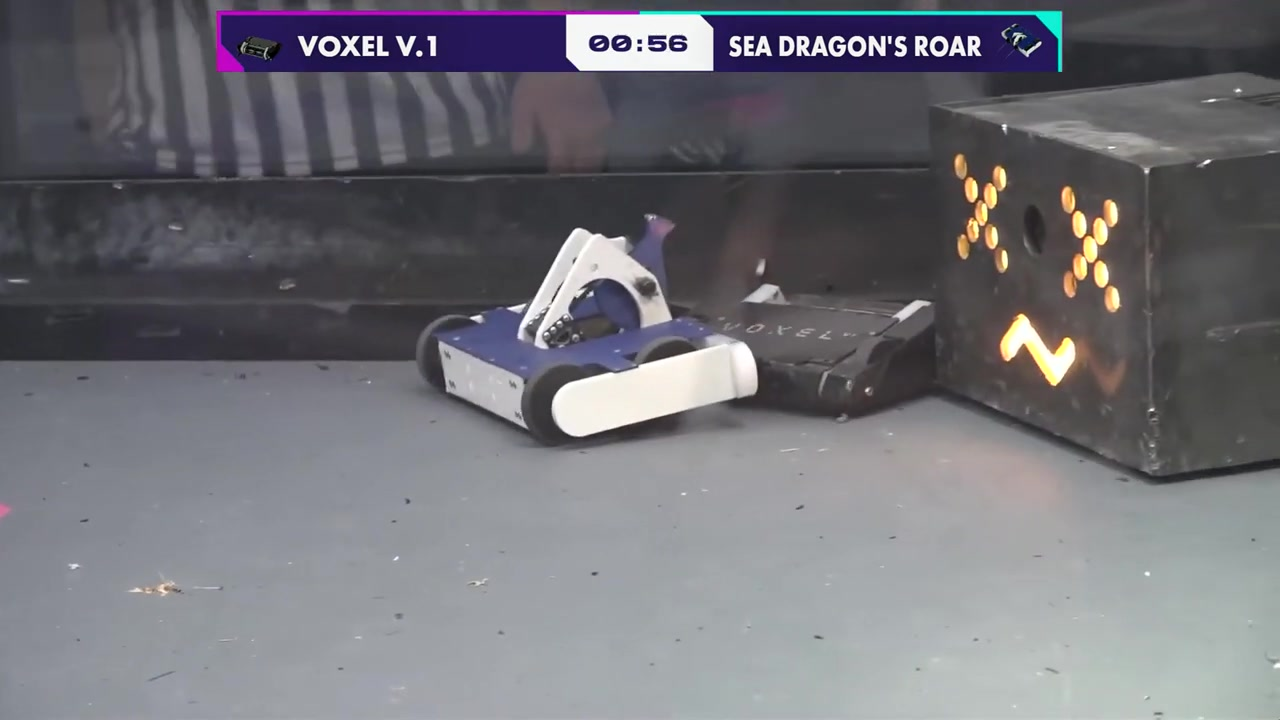combatbot: (419, 212, 754, 448), (705, 281, 935, 422)
housebot: (934, 72, 1280, 479)
